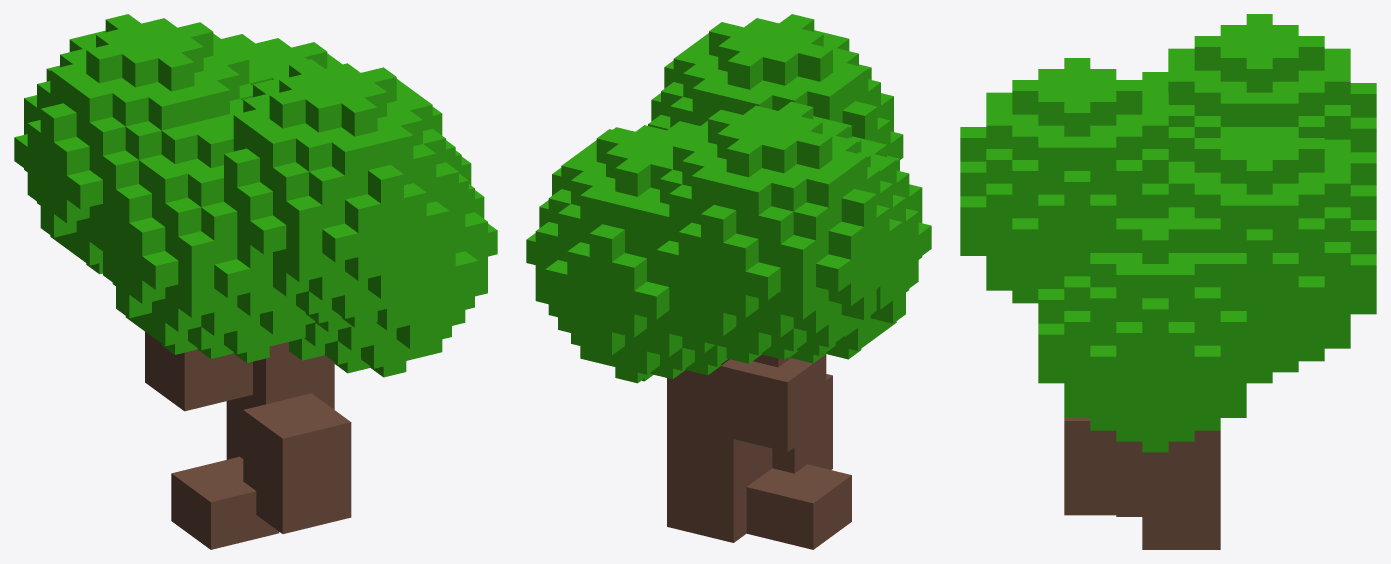
Rendered from bush1.obj.
3 renders of one model, left to right at view 1: azimuth 30°, elevation 25°; view 2: azimuth 150°, elevation 25°; view 3: azimuth 270°, elevation 25°, orthographic. The views are drawn at different scales.
Bounding box in the file's own units: 16 × 19 × 16.
1 material, 1 textured.
